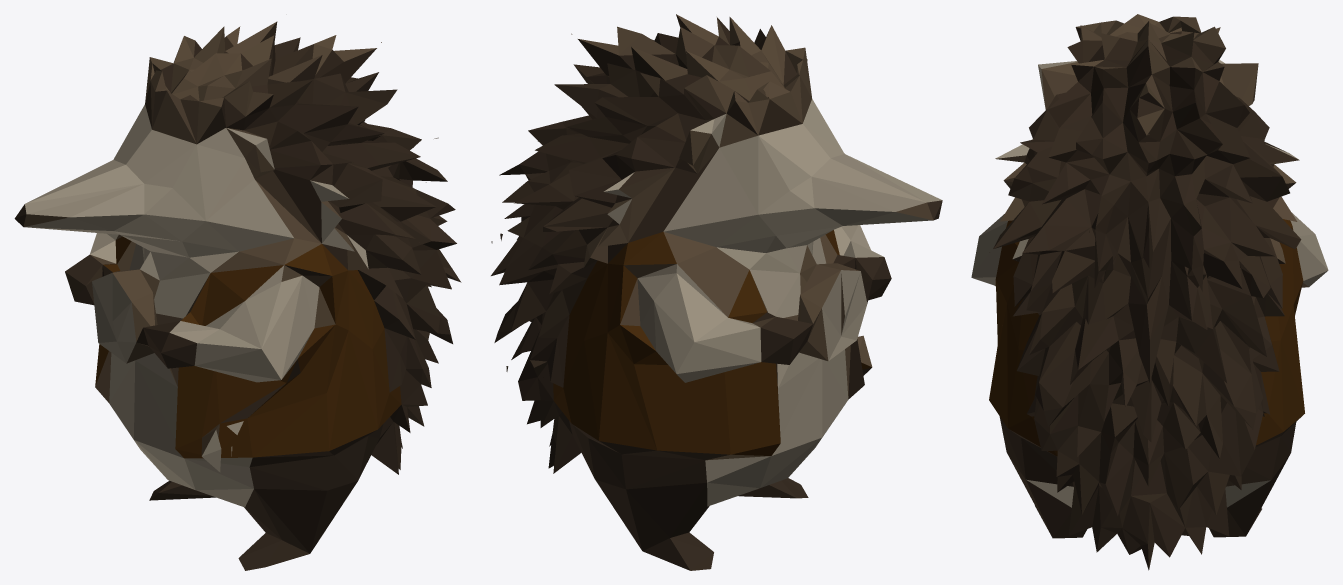
3 renders of one model, left to right at view 1: azimuth 30°, elevation 25°; view 2: azimuth 150°, elevation 25°; view 3: azimuth 270°, elevation 25°, orthographic. The views are drawn at different scales.
Size of the model in its own units: 0.8944 by 0.9918 by 0.6448.
